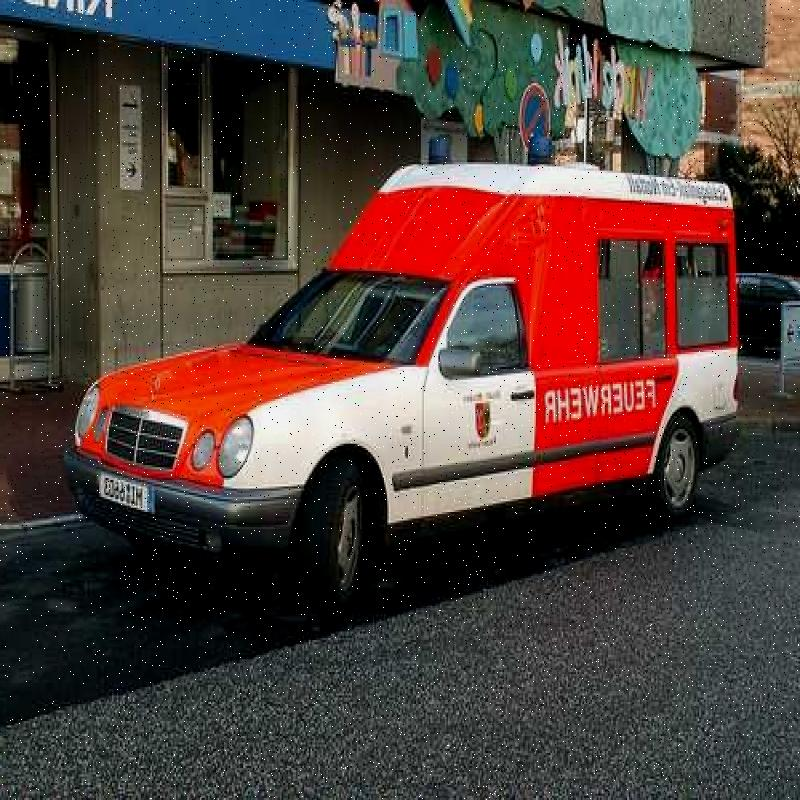AmbulanceSiren: (503, 124, 559, 180)
